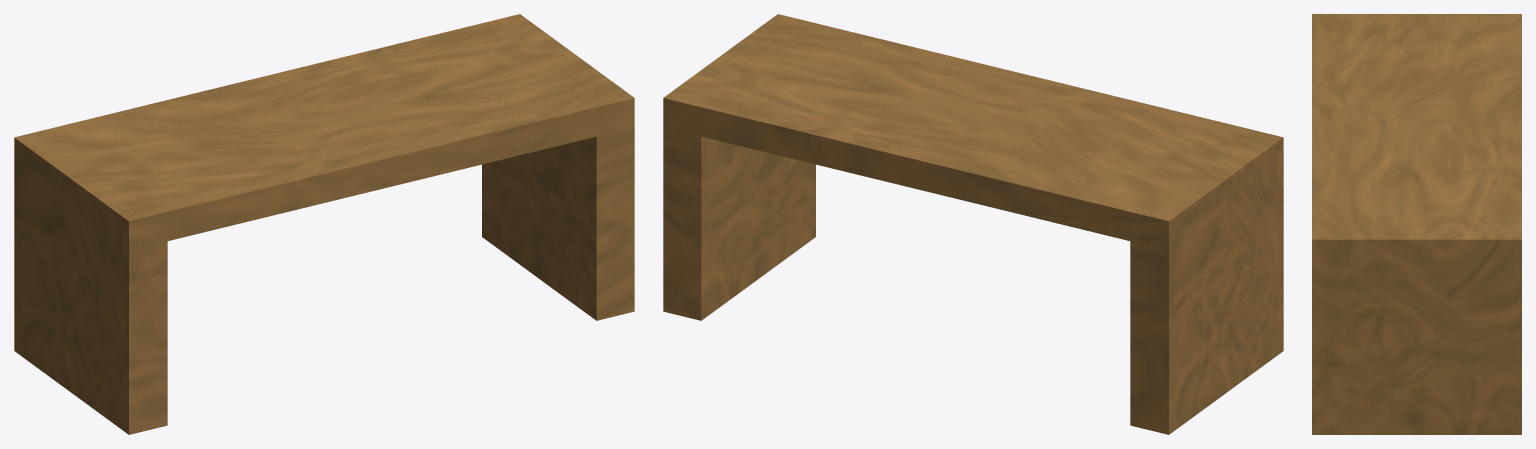
The model's file is BancoMuseu.fbx.
The picture shows the model from 3 angles, left to right: view 1: azimuth 30°, elevation 25°; view 2: azimuth 150°, elevation 25°; view 3: azimuth 270°, elevation 25°; orthographic projection. The views are drawn at different scales.
Parts seen in each view (by area): view 1: Banco; view 2: Banco; view 3: Banco.
Boxes of the visible parts, <box> form: Banco: <box>14,14,634,434</box>; Banco: <box>663,14,1283,434</box>; Banco: <box>1312,14,1521,434</box>.
Size of the model in its own units: 123 by 49.51 by 48.23.
